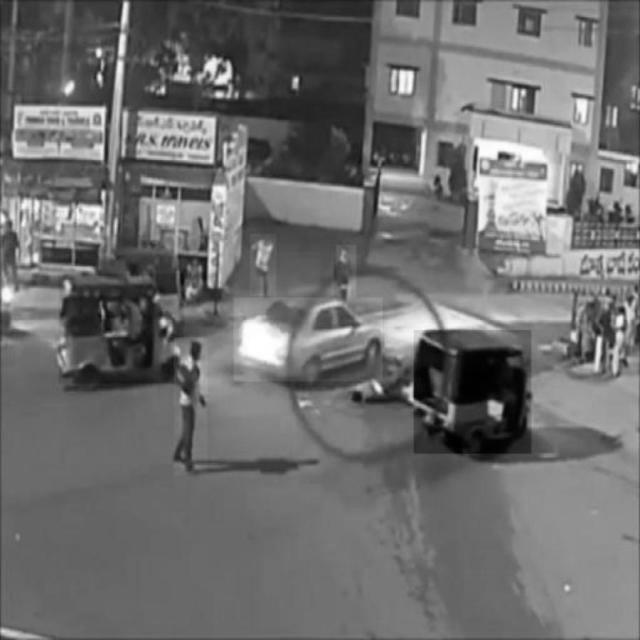person: (174, 339, 208, 476), (250, 234, 276, 296), (337, 245, 357, 305)
vehicle: (414, 330, 532, 454), (59, 274, 183, 384), (234, 298, 382, 381)
